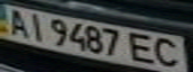4: (66, 20, 87, 52)
7: (100, 26, 127, 59)
8: (84, 24, 106, 55)
9: (45, 16, 72, 47)
A: (3, 7, 33, 37)
C: (151, 36, 187, 70)
E: (127, 30, 160, 65)
I: (24, 11, 48, 42)
